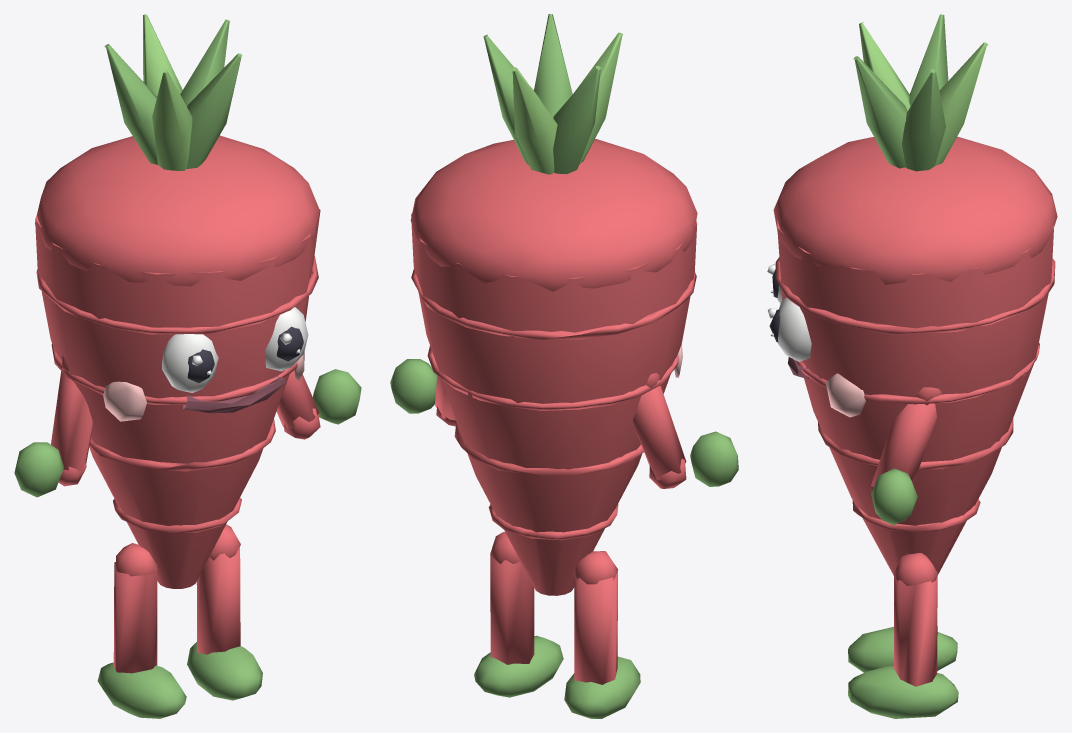
The model's file is Carrot.fbx.
3 renders of one model, left to right at view 1: azimuth 30°, elevation 25°; view 2: azimuth 150°, elevation 25°; view 3: azimuth 270°, elevation 25°, orthographic.
Parts seen in each view (by area): view 1: EX_Carrot; view 2: EX_Carrot; view 3: EX_Carrot.
Part boxes in pixels (x1=…): EX_Carrot: x1=14, y1=14, x2=361, y2=718; EX_Carrot: x1=390, y1=14, x2=738, y2=718; EX_Carrot: x1=767, y1=14, x2=1057, y2=718.
Size of the model in its own units: 130 by 239 by 96.09.
